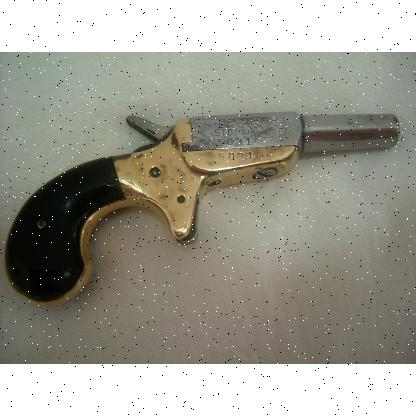gun: (4, 111, 398, 305)
